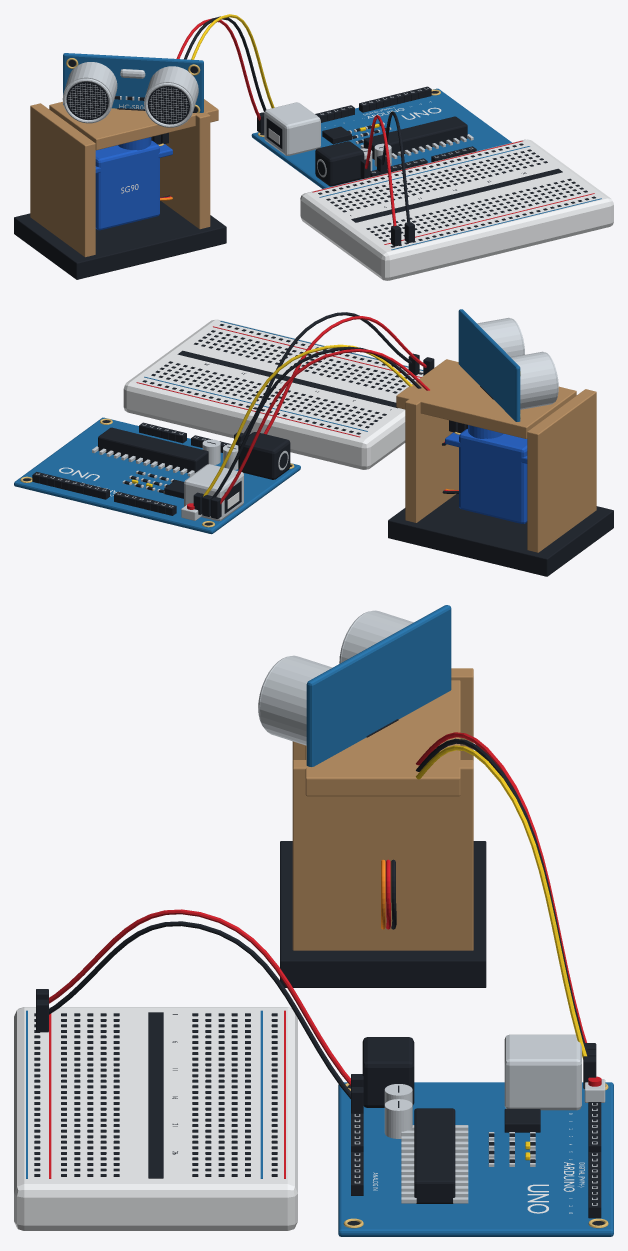
File: servo-turret.glb
3 renders of one model, top to bottom at view 1: azimuth 30°, elevation 25°; view 2: azimuth 150°, elevation 25°; view 3: azimuth 270°, elevation 25°, orthographic. The views are drawn at different scales.
Parts seen in each view (by area): view 1: breadboard.025 • white, Project structure • wood, Project structure • black, microcontroller.025 • black, microcontroller.025 • blue, servo-actuator.004 • servoBlue, ultrasonic-sensor.004 • silver, breadboard.025 • black, microcontroller.025 • silver, ultrasonic-sensor.004 • blue, ultrasonic-sensor.004 • black, Jumper connections • black (+5 smaller); view 2: breadboard.025 • white, Project structure • wood, microcontroller.025 • blue, Project structure • black, microcontroller.025 • black, servo-actuator.004 • servoBlue, breadboard.025 • black, ultrasonic-sensor.004 • blue, microcontroller.025 • silver, ultrasonic-sensor.004 • silver, Jumper connections • black, Jumper connections • red (+3 smaller); view 3: breadboard.025 • white, Project structure • wood, microcontroller.025 • blue, ultrasonic-sensor.004 • blue, breadboard.025 • black, microcontroller.025 • black, microcontroller.025 • silver, Project structure • black, ultrasonic-sensor.004 • silver, Jumper connections • black, Jumper connections • red, Jumper connections • yellow (+2 smaller).
Boxes of the visible parts, x1=… form: breadboard.025 • white: x1=300, y1=139, x2=613, y2=280; Project structure • wood: x1=30, y1=99, x2=218, y2=257; Project structure • black: x1=14, y1=201, x2=226, y2=279; microcontroller.025 • black: x1=260, y1=86, x2=476, y2=186; microcontroller.025 • blue: x1=251, y1=88, x2=511, y2=188; servo-actuator.004 • servoBlue: x1=95, y1=137, x2=172, y2=230; ultrasonic-sensor.004 • silver: x1=62, y1=62, x2=198, y2=127; breadboard.025 • black: x1=318, y1=143, x2=595, y2=247; microcontroller.025 • silver: x1=264, y1=88, x2=473, y2=177; ultrasonic-sensor.004 • blue: x1=63, y1=53, x2=203, y2=112; ultrasonic-sensor.004 • black: x1=66, y1=60, x2=197, y2=124; Jumper connections • black: x1=151, y1=16, x2=414, y2=246; breadboard.025 • white: x1=123, y1=319, x2=423, y2=469; Project structure • wood: x1=396, y1=359, x2=596, y2=552; microcontroller.025 • blue: x1=14, y1=417, x2=300, y2=534; Project structure • black: x1=388, y1=493, x2=613, y2=576; microcontroller.025 • black: x1=23, y1=420, x2=291, y2=525; servo-actuator.004 • servoBlue: x1=445, y1=425, x2=527, y2=523; breadboard.025 • black: x1=142, y1=324, x2=423, y2=434; ultrasonic-sensor.004 • blue: x1=458, y1=309, x2=520, y2=421; microcontroller.025 • silver: x1=36, y1=424, x2=288, y2=521; ultrasonic-sensor.004 • silver: x1=477, y1=317, x2=558, y2=409; Jumper connections • black: x1=193, y1=312, x2=467, y2=518; Jumper connections • red: x1=220, y1=316, x2=429, y2=504; breadboard.025 • white: x1=14, y1=1007, x2=297, y2=1230; Project structure • wood: x1=292, y1=668, x2=473, y2=950; microcontroller.025 • blue: x1=338, y1=1082, x2=613, y2=1236; ultrasonic-sensor.004 • blue: x1=306, y1=605, x2=451, y2=766; breadboard.025 • black: x1=34, y1=1012, x2=277, y2=1178; microcontroller.025 • black: x1=347, y1=1037, x2=604, y2=1225; microcontroller.025 • silver: x1=354, y1=1034, x2=605, y2=1205; Project structure • black: x1=280, y1=841, x2=486, y2=987; ultrasonic-sensor.004 • silver: x1=258, y1=610, x2=413, y2=745; Jumper connections • black: x1=36, y1=738, x2=596, y2=1113; Jumper connections • red: x1=49, y1=732, x2=586, y2=1085; Jumper connections • yellow: x1=416, y1=745, x2=586, y2=1059.
Size of the model in its own units: 170 by 63 by 116.
